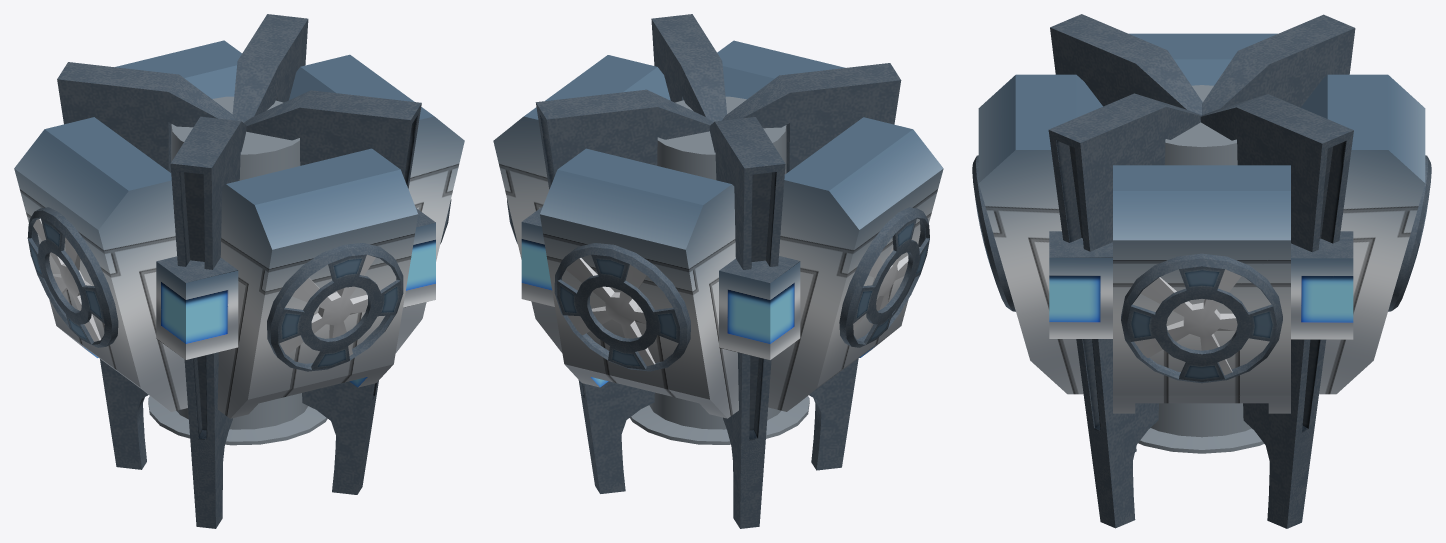
Rendered from Air Extractor.fbx.
3 views of the same model, side by side, from view 1: azimuth 30°, elevation 25°; view 2: azimuth 150°, elevation 25°; view 3: azimuth 270°, elevation 25° (orthographic). The views are drawn at different scales.
Visible parts, largest first — view 1: Chamber (×4), Leg (×4), Fan_Cover (×2), Extra (×2), Main_Body, Fan (×2); view 2: Chamber (×4), Leg (×4), Fan_Cover (×2), Extra (×2), Main_Body, Fan (×2); view 3: Chamber (×4), Leg (×4), Fan_Cover (×3), Extra (×2), Main_Body, Fan.
Boxes of the visible parts, box(x1,y1,x2,y2) form: Chamber (×4): box(14, 40, 464, 418); Leg (×4): box(57, 14, 421, 528); Fan_Cover (×2): box(27, 207, 403, 371); Extra (×2): box(156, 208, 435, 359); Main_Body: box(148, 96, 327, 445); Fan (×2): box(33, 218, 375, 355); Chamber (×4): box(493, 40, 943, 418); Leg (×4): box(535, 14, 901, 528); Fan_Cover (×2): box(554, 207, 929, 371); Extra (×2): box(521, 206, 800, 360); Main_Body: box(630, 96, 809, 444); Fan (×2): box(566, 245, 919, 366); Chamber (×4): box(978, 33, 1425, 413); Leg (×4): box(1048, 14, 1355, 528); Fan_Cover (×3): box(972, 155, 1431, 383); Extra (×2): box(1049, 231, 1353, 339); Main_Body: box(1138, 85, 1264, 453); Fan: box(1134, 269, 1241, 375).
Bounding box in the file's own units: 5.11 × 5 × 5.11.
